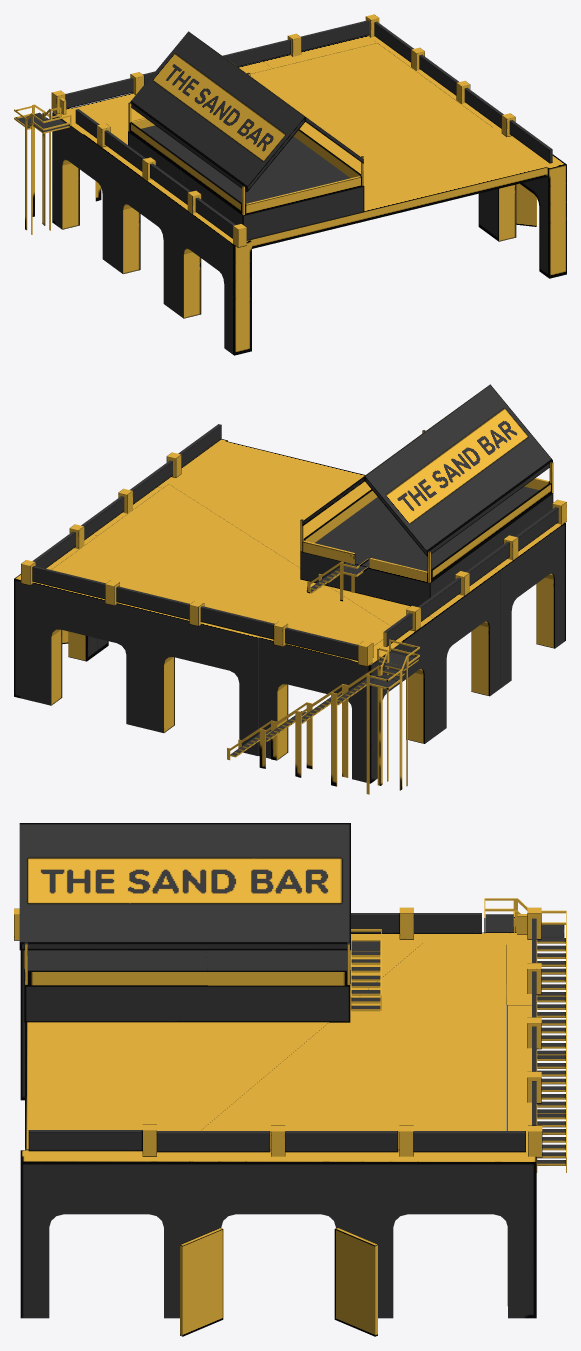
File: building-sandbar-mesh.FBX
3 views of the same model, one above another, from view 1: azimuth 30°, elevation 25°; view 2: azimuth 150°, elevation 25°; view 3: azimuth 270°, elevation 25° (orthographic). The views are drawn at different scales.
Visible parts, largest first — view 1: Sand-Bar-chunk-29, Sand-Bar-chunk-43, Sand-Bar-chunk-41, Sand-Bar-chunk-44, Sand-Bar-chunk-25, Sand-Bar-chunk-24, Sand-Bar-chunk-21, Sand-Bar-chunk-1, Sand-Bar-chunk-45, Sand-Bar-chunk-2, Sand-Bar-chunk-27, Sand-Bar-chunk-54 (+25 smaller); view 2: Sand-Bar-chunk-41, Sand-Bar-chunk-43, Sand-Bar-chunk-29, Sand-Bar-chunk-45, Sand-Bar-chunk-9, Sand-Bar-chunk-8, Sand-Bar-chunk-24, Sand-Bar-chunk-25, Sand-Bar-chunk-21, Sand-Bar-chunk-19, Sand-Bar-chunk-18, Sand-Bar-chunk-44 (+33 smaller); view 3: Sand-Bar-chunk-42, Sand-Bar-chunk-41, Sand-Bar-chunk-29, Sand-Bar-chunk-1, Sand-Bar-chunk-5, Sand-Bar-chunk-44, Sand-Bar-chunk-45, Sand-Bar-chunk-3, Sand-Bar-chunk-49, Sand-Bar-chunk-14, Sand-Bar-chunk-13, Sand-Bar-chunk-2 (+14 smaller).
Part boxes in pixels (left/top/right/bottom): Sand-Bar-chunk-29: left=117, top=127, right=547, bottom=248; Sand-Bar-chunk-43: left=130, top=31, right=305, bottom=191; Sand-Bar-chunk-41: left=86, top=43, right=492, bottom=136; Sand-Bar-chunk-44: left=180, top=139, right=364, bottom=240; Sand-Bar-chunk-25: left=173, top=200, right=251, bottom=355; Sand-Bar-chunk-24: left=113, top=155, right=173, bottom=310; Sand-Bar-chunk-21: left=52, top=108, right=112, bottom=266; Sand-Bar-chunk-1: left=488, top=123, right=566, bottom=278; Sand-Bar-chunk-45: left=128, top=125, right=296, bottom=187; Sand-Bar-chunk-2: left=539, top=154, right=566, bottom=223; Sand-Bar-chunk-27: left=224, top=235, right=251, bottom=300; Sand-Bar-chunk-54: left=129, top=122, right=241, bottom=213; Sand-Bar-chunk-41: left=52, top=484, right=390, bottom=645; Sand-Bar-chunk-43: left=365, top=384, right=552, bottom=556; Sand-Bar-chunk-29: left=169, top=441, right=410, bottom=625; Sand-Bar-chunk-45: left=300, top=512, right=492, bottom=606; Sand-Bar-chunk-9: left=145, top=618, right=260, bottom=732; Sand-Bar-chunk-8: left=32, top=590, right=146, bottom=705; Sand-Bar-chunk-24: left=429, top=578, right=500, bottom=700; Sand-Bar-chunk-25: left=494, top=531, right=565, bottom=652; Sand-Bar-chunk-21: left=352, top=626, right=435, bottom=748; Sand-Bar-chunk-19: left=277, top=643, right=352, bottom=707; Sand-Bar-chunk-18: left=258, top=636, right=288, bottom=760; Sand-Bar-chunk-44: left=357, top=486, right=553, bottom=551; Sand-Bar-chunk-42: left=19, top=823, right=350, bottom=950; Sand-Bar-chunk-41: left=201, top=943, right=506, bottom=1150; Sand-Bar-chunk-29: left=25, top=943, right=422, bottom=1150; Sand-Bar-chunk-1: left=20, top=1151, right=192, bottom=1318; Sand-Bar-chunk-5: left=364, top=1150, right=536, bottom=1318; Sand-Bar-chunk-44: left=24, top=950, right=207, bottom=1022; Sand-Bar-chunk-45: left=176, top=950, right=350, bottom=1022; Sand-Bar-chunk-3: left=192, top=1150, right=364, bottom=1238; Sand-Bar-chunk-49: left=28, top=970, right=346, bottom=985; Sand-Bar-chunk-14: left=334, top=1227, right=377, bottom=1336; Sand-Bar-chunk-13: left=180, top=1227, right=223, bottom=1336; Sand-Bar-chunk-2: left=20, top=1150, right=88, bottom=1235.
Bounding box in the file's own units: 11.07 × 6.07 × 9.66.
